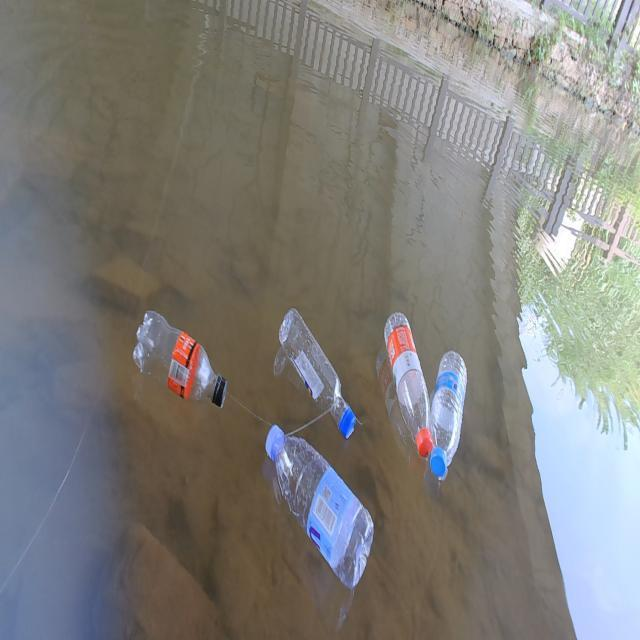bottle: (258, 419, 382, 594), (264, 288, 376, 446), (128, 302, 234, 414), (383, 309, 434, 456), (425, 325, 470, 490)
